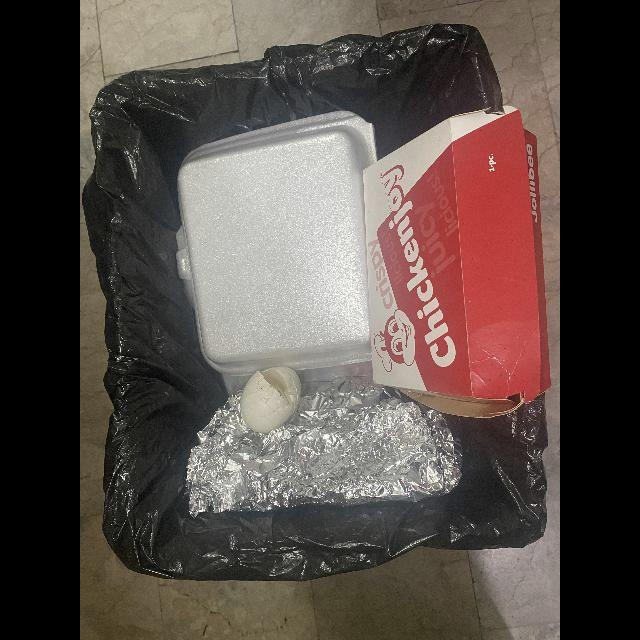aluminum: (186, 381, 463, 518)
cardboard: (363, 105, 551, 420)
